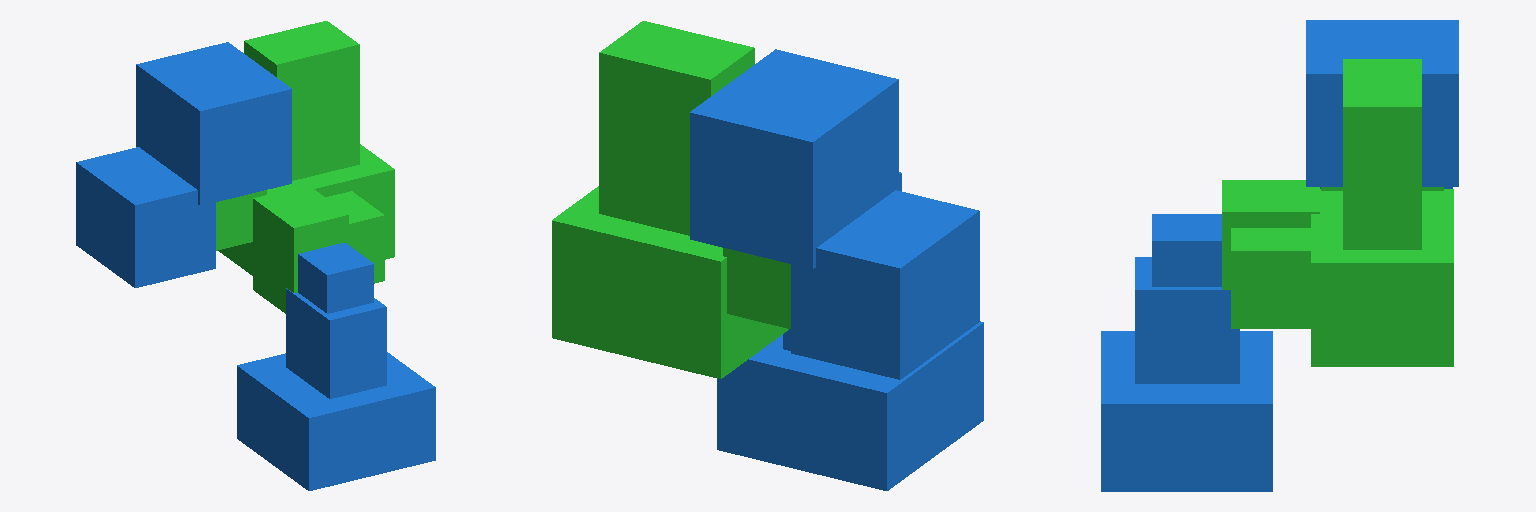
The robot description file, URDF, robot "robot":
<robot name = "robot">
    <link name="Link0">
        <inertial>
            <origin xyz="0 0 2" rpy="0 0 0"/>
            <mass value="0.6247386105910145" />
            <inertia ixx="100" ixy="0" ixz="0" iyy="100" iyz="0" izz="100" />
        </inertial>
        <visual>
            <origin xyz="0 0 2" rpy="0 0 0"/>
            <geometry>
                <box size="0.7975745598545727 1.0046696744748647 0.7796573205700426" />
            </geometry>
            <material name="No Sensor">
                <color rgba="0.184 0.553 0.933 1.0"/>
            </material>
        </visual>
        <collision>
            <origin xyz="0 0 2" rpy="0 0 0"/>
            <geometry>
                <box size="0.7975745598545727 1.0046696744748647 0.7796573205700426" />
            </geometry>
        </collision>
    </link>
    <joint name="Link0_Link1" type="revolute">
       <parent link="Link0"/>
       <child  link="Link1"/>
       <origin rpy="0 0 0" xyz="0.39878727992728635 0 2" />
       <axis xyz="1 0 0"/>
       <limit effort="0.0" lower="-3.14159" upper="3.14159" velocity="0.0"/>
    </joint>
    <link name="Link1">
        <inertial>
            <origin xyz="0.2684918763735373 0 0" rpy="0 0 0"/>
            <mass value="0.24167478143487042" />
            <inertia ixx="100" ixy="0" ixz="0" iyy="100" iyz="0" izz="100" />
        </inertial>
        <visual>
            <origin xyz="0.2684918763735373 0 0" rpy="0 0 0"/>
            <geometry>
                <box size="0.5369837527470745 0.8741797232639109 0.5148366551761958" />
            </geometry>
            <material name="Sensor">
                <color rgba="0.239 0.875 0.282 1.0"/>
            </material>
        </visual>
        <collision>
            <origin xyz="0.2684918763735373 0 0" rpy="0 0 0"/>
            <geometry>
                <box size="0.5369837527470745 0.8741797232639109 0.5148366551761958" />
            </geometry>
        </collision>
    </link>
    <joint name="Link1_Link2" type="revolute">
       <parent link="Link1"/>
       <child  link="Link2"/>
       <origin rpy="0 0 0" xyz="0.2684918763735373 0.0 0.2574183275880979" />
       <axis xyz="1 0 0"/>
       <limit effort="0.0" lower="-3.14159" upper="3.14159" velocity="0.0"/>
    </joint>
    <link name="Link2">
        <inertial>
            <origin xyz="0.0 0.0 0.44447391018421584" rpy="0 0 0"/>
            <mass value="0.8761901700332726" />
            <inertia ixx="100" ixy="0" ixz="0" iyy="100" iyz="0" izz="100" />
        </inertial>
        <visual>
            <origin xyz="0.0 0.0 0.44447391018421584" rpy="0 0 0"/>
            <geometry>
                <box size="0.902692914334523 1.091898007826738 0.8889478203684317" />
            </geometry>
            <material name="No Sensor">
                <color rgba="0.184 0.553 0.933 1.0"/>
            </material>
        </visual>
        <collision>
            <origin xyz="0.0 0.0 0.44447391018421584" rpy="0 0 0"/>
            <geometry>
                <box size="0.902692914334523 1.091898007826738 0.8889478203684317" />
            </geometry>
        </collision>
    </link>
    <joint name="Link2_Link3" type="revolute">
       <parent link="Link2"/>
       <child  link="Link3"/>
       <origin rpy="0 0 0" xyz="0.4513464571672615 0.0 0.44447391018421584" />
       <axis xyz="1 0 0"/>
       <limit effort="0.0" lower="-3.14159" upper="3.14159" velocity="0.0"/>
    </joint>
    <link name="Link3">
        <inertial>
            <origin xyz="0.40781573448836694 0.0 0.0" rpy="0 0 0"/>
            <mass value="0.5120329938147485" />
            <inertia ixx="100" ixy="0" ixz="0" iyy="100" iyz="0" izz="100" />
        </inertial>
        <visual>
            <origin xyz="0.40781573448836694 0.0 0.0" rpy="0 0 0"/>
            <geometry>
                <box size="0.8156314689767339 0.5571421092708613 1.126777039937961" />
            </geometry>
            <material name="Sensor">
                <color rgba="0.239 0.875 0.282 1.0"/>
            </material>
        </visual>
        <collision>
            <origin xyz="0.40781573448836694 0.0 0.0" rpy="0 0 0"/>
            <geometry>
                <box size="0.8156314689767339 0.5571421092708613 1.126777039937961" />
            </geometry>
        </collision>
    </link>
    <joint name="Link3_Link4" type="revolute">
       <parent link="Link3"/>
       <child  link="Link4"/>
       <origin rpy="0 0 0" xyz="0.40781573448836694 0.0 -0.5633885199689805" />
       <axis xyz="0 0 1"/>
       <limit effort="0.0" lower="-3.14159" upper="3.14159" velocity="0.0"/>
    </joint>
    <link name="Link4">
        <inertial>
            <origin xyz="0.0 0.0 -0.41182192878520957" rpy="0 0 0"/>
            <mass value="1.048386619635883" />
            <inertia ixx="100" ixy="0" ixz="0" iyy="100" iyz="0" izz="100" />
        </inertial>
        <visual>
            <origin xyz="0.0 0.0 -0.41182192878520957" rpy="0 0 0"/>
            <geometry>
                <box size="1.2388218847172996 1.0274794312099411 0.8236438575704191" />
            </geometry>
            <material name="Sensor">
                <color rgba="0.239 0.875 0.282 1.0"/>
            </material>
        </visual>
        <collision>
            <origin xyz="0.0 0.0 -0.41182192878520957" rpy="0 0 0"/>
            <geometry>
                <box size="1.2388218847172996 1.0274794312099411 0.8236438575704191" />
            </geometry>
        </collision>
    </link>
    <joint name="Link4_Link5" type="revolute">
       <parent link="Link4"/>
       <child  link="Link5"/>
       <origin rpy="0 0 0" xyz="0.0 -0.5137397156049706 -0.41182192878520957" />
       <axis xyz="0 1 0"/>
       <limit effort="0.0" lower="-3.14159" upper="3.14159" velocity="0.0"/>
    </joint>
    <link name="Link5">
        <inertial>
            <origin xyz="0.0 -0.2824645111963018 0.0" rpy="0 0 0"/>
            <mass value="0.13635369945843068" />
            <inertia ixx="100" ixy="0" ixz="0" iyy="100" iyz="0" izz="100" />
        </inertial>
        <visual>
            <origin xyz="0.0 -0.2824645111963018 0.0" rpy="0 0 0"/>
            <geometry>
                <box size="0.3912793326410017 0.5649290223926036 0.6168593185911837" />
            </geometry>
            <material name="Sensor">
                <color rgba="0.239 0.875 0.282 1.0"/>
            </material>
        </visual>
        <collision>
            <origin xyz="0.0 -0.2824645111963018 0.0" rpy="0 0 0"/>
            <geometry>
                <box size="0.3912793326410017 0.5649290223926036 0.6168593185911837" />
            </geometry>
        </collision>
    </link>
    <joint name="Link5_Link6" type="revolute">
       <parent link="Link5"/>
       <child  link="Link6"/>
       <origin rpy="0 0 0" xyz="-0.19563966632050084 -0.2824645111963018 0.0" />
       <axis xyz="0 0 1"/>
       <limit effort="0.0" lower="-3.14159" upper="3.14159" velocity="0.0"/>
    </joint>
    <link name="Link6">
        <inertial>
            <origin xyz="-0.2709476105137329 0.0 0.0" rpy="0 0 0"/>
            <mass value="0.32457335706369944" />
            <inertia ixx="100" ixy="0" ixz="0" iyy="100" iyz="0" izz="100" />
        </inertial>
        <visual>
            <origin xyz="-0.2709476105137329 0.0 0.0" rpy="0 0 0"/>
            <geometry>
                <box size="0.5418952210274658 0.6959528147489278 0.8606325168676457" />
            </geometry>
            <material name="Sensor">
                <color rgba="0.239 0.875 0.282 1.0"/>
            </material>
        </visual>
        <collision>
            <origin xyz="-0.2709476105137329 0.0 0.0" rpy="0 0 0"/>
            <geometry>
                <box size="0.5418952210274658 0.6959528147489278 0.8606325168676457" />
            </geometry>
        </collision>
    </link>
    <joint name="Link6_Link7" type="revolute">
       <parent link="Link6"/>
       <child  link="Link7"/>
       <origin rpy="0 0 0" xyz="-0.2709476105137329 -0.3479764073744639 0.0" />
       <axis xyz="1 0 0"/>
       <limit effort="0.0" lower="-3.14159" upper="3.14159" velocity="0.0"/>
    </joint>
    <link name="Link7">
        <inertial>
            <origin xyz="0.0 -0.24987987714335191 0.0" rpy="0 0 0"/>
            <mass value="0.08378209539180417" />
            <inertia ixx="100" ixy="0" ixz="0" iyy="100" iyz="0" izz="100" />
        </inertial>
        <visual>
            <origin xyz="0.0 -0.24987987714335191 0.0" rpy="0 0 0"/>
            <geometry>
                <box size="0.4629145905151636 0.49975975428670383 0.3621504832210968" />
            </geometry>
            <material name="No Sensor">
                <color rgba="0.184 0.553 0.933 1.0"/>
            </material>
        </visual>
        <collision>
            <origin xyz="0.0 -0.24987987714335191 0.0" rpy="0 0 0"/>
            <geometry>
                <box size="0.4629145905151636 0.49975975428670383 0.3621504832210968" />
            </geometry>
        </collision>
    </link>
    <joint name="Link7_Link8" type="revolute">
       <parent link="Link7"/>
       <child  link="Link8"/>
       <origin rpy="0 0 0" xyz="0.0 -0.24987987714335191 -0.1810752416105484" />
       <axis xyz="0 1 0"/>
       <limit effort="0.0" lower="-3.14159" upper="3.14159" velocity="0.0"/>
    </joint>
    <link name="Link8">
        <inertial>
            <origin xyz="0.0 0.0 -0.3699038923550441" rpy="0 0 0"/>
            <mass value="0.30832867773822786" />
            <inertia ixx="100" ixy="0" ixz="0" iyy="100" iyz="0" izz="100" />
        </inertial>
        <visual>
            <origin xyz="0.0 0.0 -0.3699038923550441" rpy="0 0 0"/>
            <geometry>
                <box size="0.5575885891748025 0.7474482785846432 0.7398077847100882" />
            </geometry>
            <material name="No Sensor">
                <color rgba="0.184 0.553 0.933 1.0"/>
            </material>
        </visual>
        <collision>
            <origin xyz="0.0 0.0 -0.3699038923550441" rpy="0 0 0"/>
            <geometry>
                <box size="0.5575885891748025 0.7474482785846432 0.7398077847100882" />
            </geometry>
        </collision>
    </link>
    <joint name="Link8_Link9" type="revolute">
       <parent link="Link8"/>
       <child  link="Link9"/>
       <origin rpy="0 0 0" xyz="0.0 0.0 -0.7398077847100882" />
       <axis xyz="0 1 0"/>
       <limit effort="0.0" lower="-3.14159" upper="3.14159" velocity="0.0"/>
    </joint>
    <link name="Link9">
        <inertial>
            <origin xyz="0.0 0.0 -0.3432813858405716" rpy="0 0 0"/>
            <mass value="1.0528033462631454" />
            <inertia ixx="100" ixy="0" ixz="0" iyy="100" iyz="0" izz="100" />
        </inertial>
        <visual>
            <origin xyz="0.0 0.0 -0.3432813858405716" rpy="0 0 0"/>
            <geometry>
                <box size="1.2455772118463961 1.231108563063627 0.6865627716811432" />
            </geometry>
            <material name="No Sensor">
                <color rgba="0.184 0.553 0.933 1.0"/>
            </material>
        </visual>
        <collision>
            <origin xyz="0.0 0.0 -0.3432813858405716" rpy="0 0 0"/>
            <geometry>
                <box size="1.2455772118463961 1.231108563063627 0.6865627716811432" />
            </geometry>
        </collision>
    </link>
</robot>

--- Facts derived from the render (not from the file) ---
Views: 3 orthographic renders of the robot side by side, from view 1: azimuth 30°, elevation 25°; view 2: azimuth 150°, elevation 25°; view 3: azimuth 270°, elevation 25°.
Model robot with 10 links and 9 joints (9 revolute), rooted at Link0, posed all joints at 0.
Visible links, largest first — view 1: Link2, Link9, Link0, Link3, Link8, Link6, Link7, Link4, Link5, Link1; view 2: Link2, Link9, Link0, Link4, Link3, Link1; view 3: Link9, Link4, Link2, Link3, Link8, Link5, Link7, Link6.
Link boxes in pixels (x1,y1,x2,y2): Link2: [136, 42, 291, 205]; Link9: [237, 352, 435, 490]; Link0: [76, 147, 215, 287]; Link3: [244, 21, 359, 180]; Link8: [286, 288, 386, 398]; Link6: [253, 185, 348, 313]; Link7: [298, 243, 373, 313]; Link4: [218, 144, 394, 275]; Link5: [325, 191, 384, 283]; Link1: [216, 190, 266, 250]; Link2: [690, 49, 898, 268]; Link9: [717, 321, 983, 490]; Link0: [791, 190, 979, 379]; Link4: [552, 186, 788, 378]; Link3: [599, 21, 754, 235]; Link1: [723, 248, 790, 328]; Link9: [1101, 331, 1272, 491]; Link4: [1311, 189, 1453, 366]; Link2: [1306, 20, 1458, 186]; Link3: [1343, 59, 1421, 249]; Link8: [1135, 257, 1239, 383]; Link5: [1231, 228, 1310, 328]; Link7: [1152, 214, 1221, 286]; Link6: [1222, 180, 1319, 289].
Bounding box of the posed robot: 2.54 × 2.56 × 3.15 m (x, y, z).
Geometry: primitives only (box / cylinder / sphere), no mesh files.